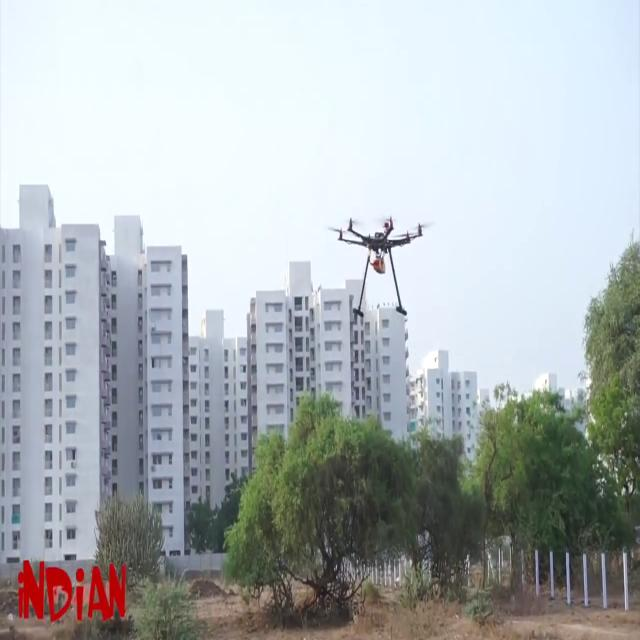drone: (312, 192, 441, 343)
